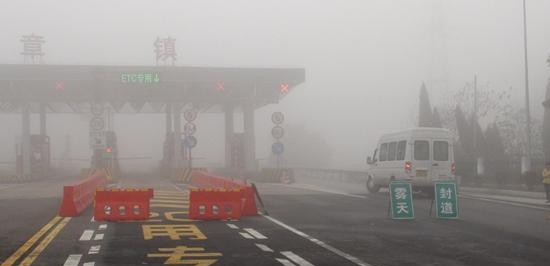car: (364, 126, 455, 195)
